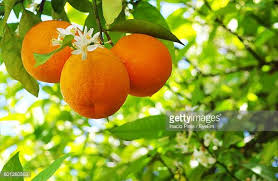orange: (57, 45, 133, 123)
